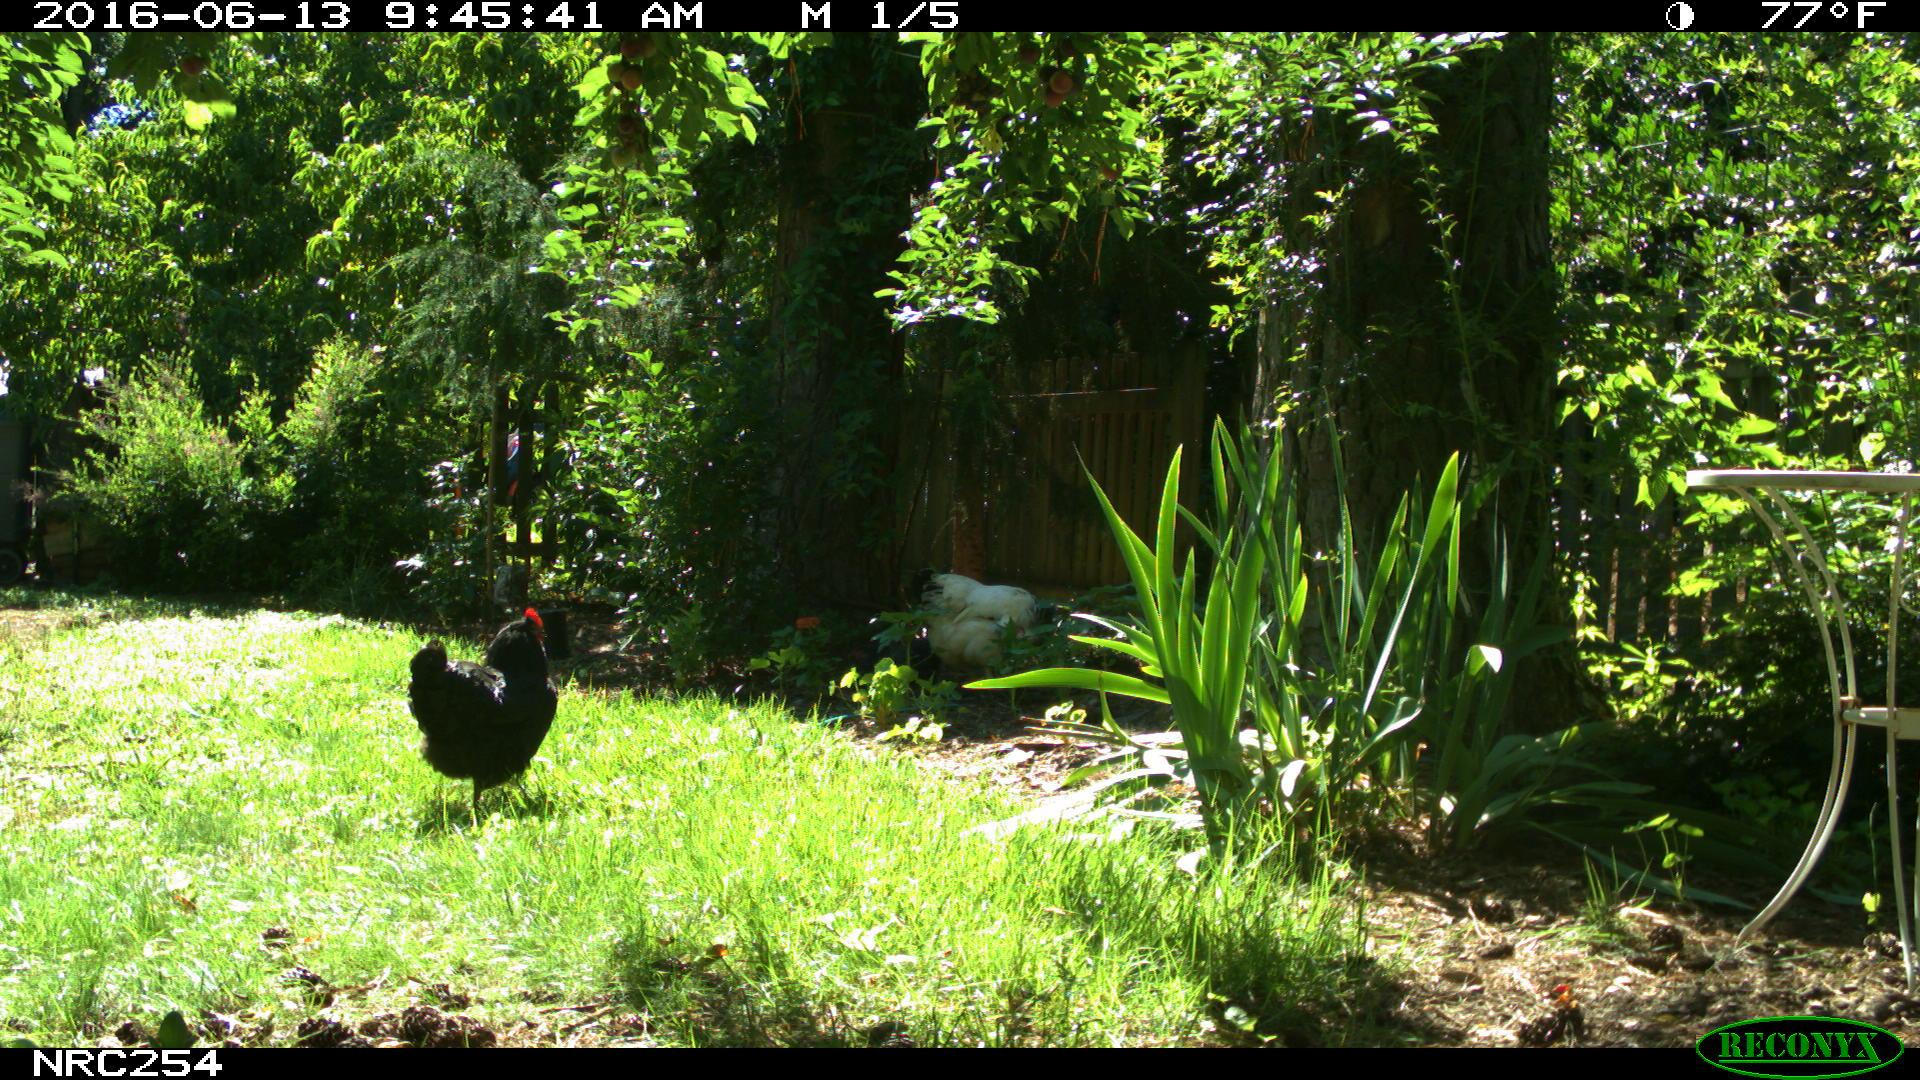Animal: (407, 609, 560, 827), (923, 568, 1055, 713)
